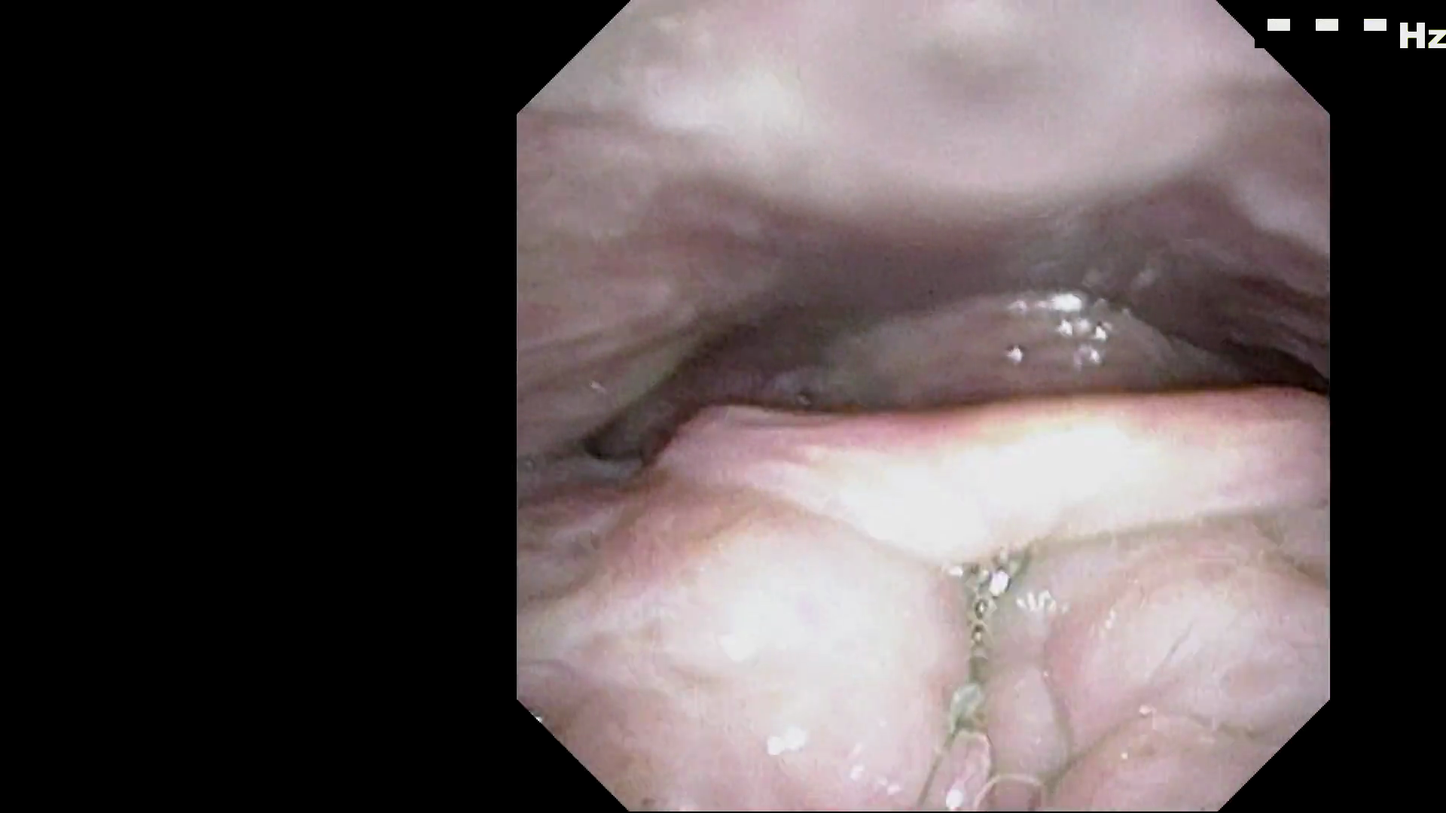epiglottis: (716, 454, 1265, 621)
